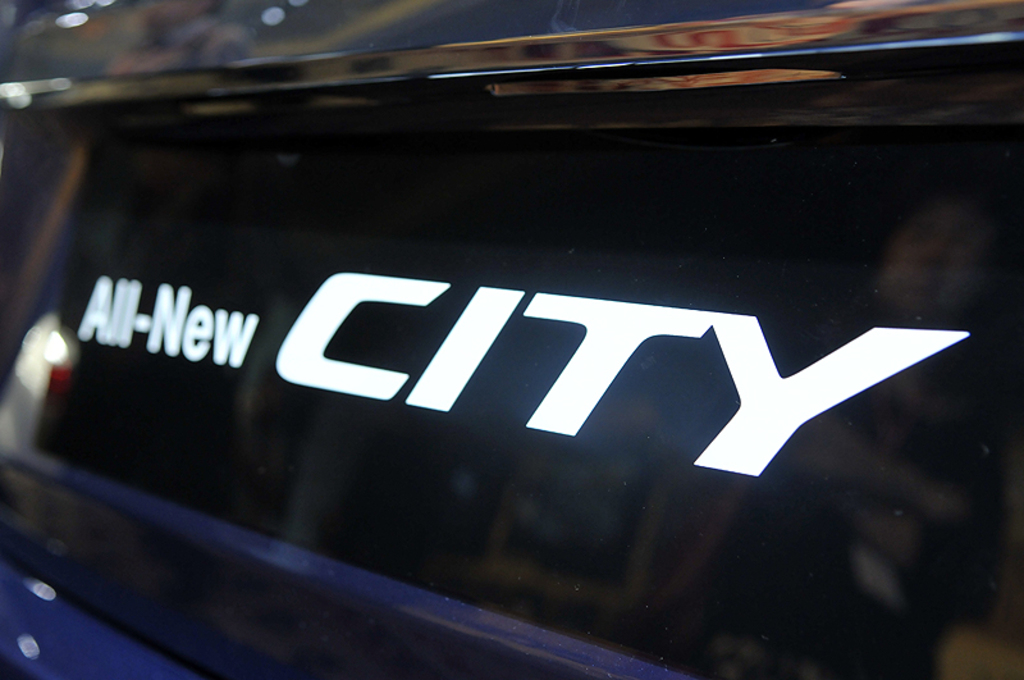Car: (0, 0, 1022, 678)
